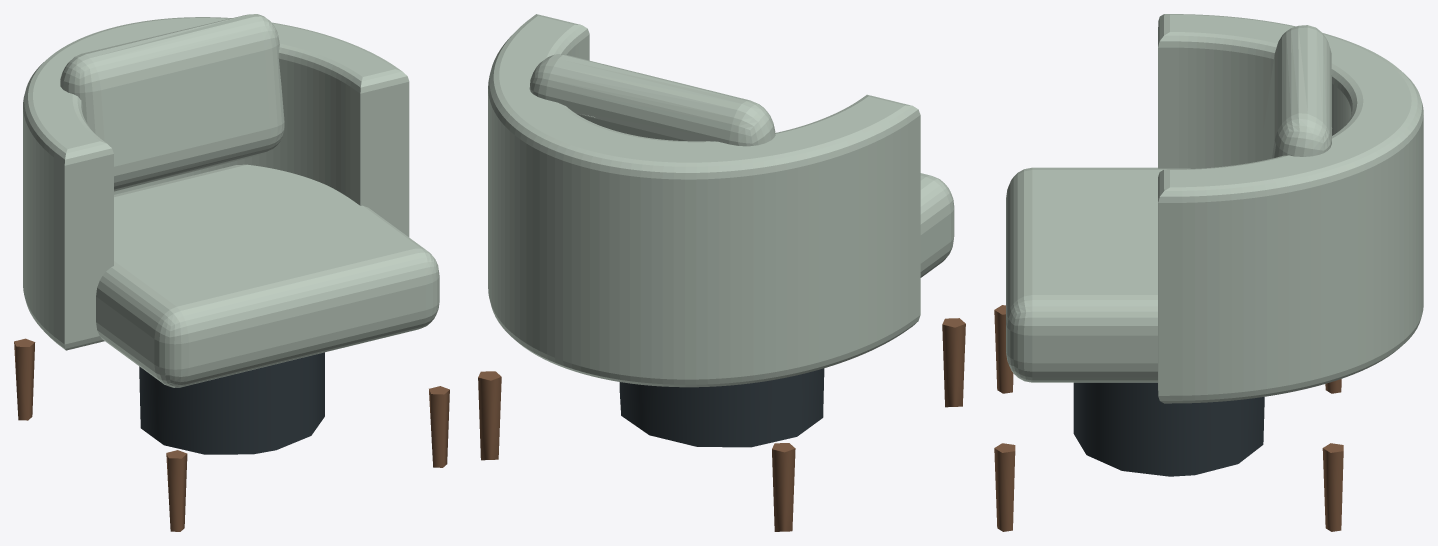
The model's file is chair-1-1.lod.glb.
3 views of the same model, side by side, from view 1: azimuth 30°, elevation 25°; view 2: azimuth 150°, elevation 25°; view 3: azimuth 270°, elevation 25° (orthographic). The views are drawn at different scales.
Parts seen in each view (by area): view 1: tailored-cushion, part (×2); view 2: tailored-cushion, part (×2); view 3: tailored-cushion, part (×2).
Part boxes in pixels (left/top/right/bottom): tailored-cushion: left=23, top=14, right=439, bottom=387; part (×2): left=14, top=338, right=449, bottom=531; tailored-cushion: left=488, top=14, right=954, bottom=387; part (×2): left=478, top=318, right=965, bottom=531; tailored-cushion: left=1006, top=14, right=1423, bottom=403; part (×2): left=994, top=305, right=1343, bottom=531.
Size of the model in its own units: 1 by 1 by 1.
